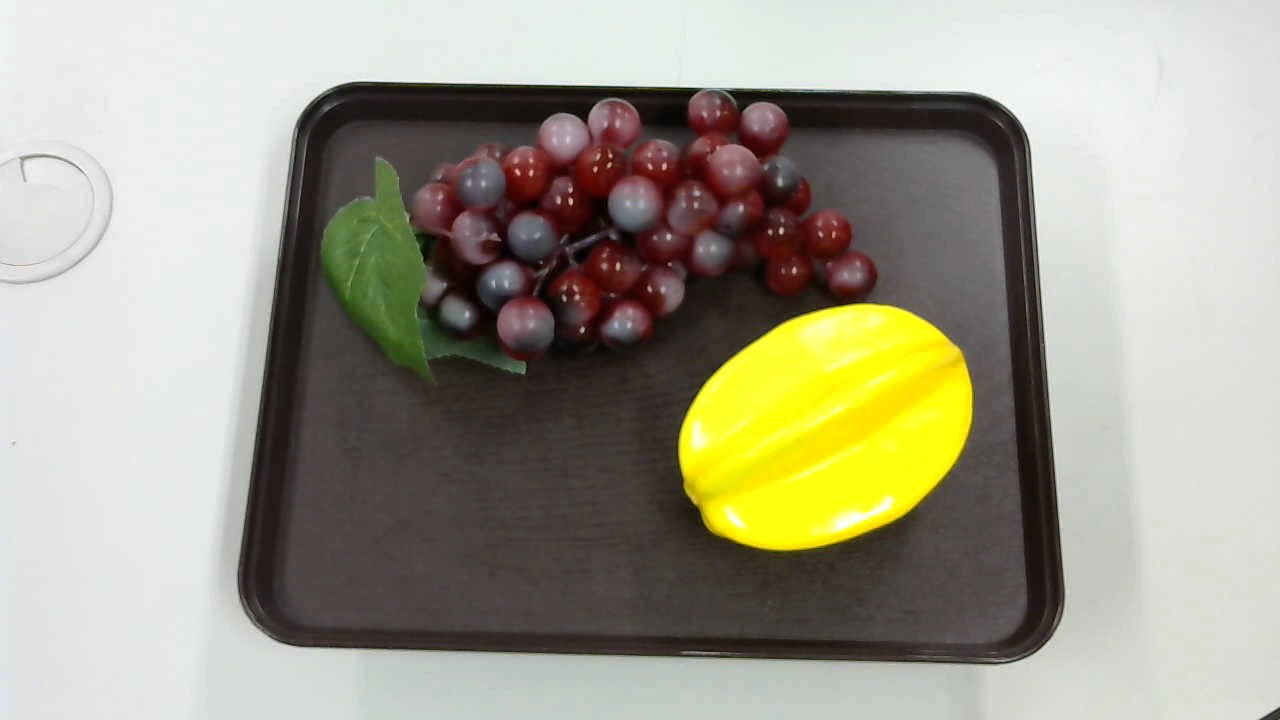grape: (318, 88, 888, 373)
star fruit: (676, 303, 978, 552)
